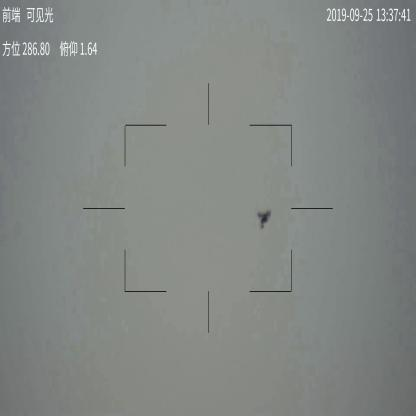uav: (256, 207, 272, 229)
